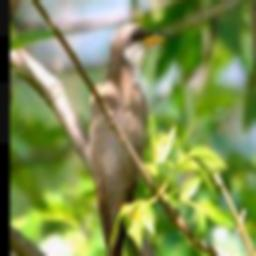Cuckoo: (88, 22, 170, 256)
